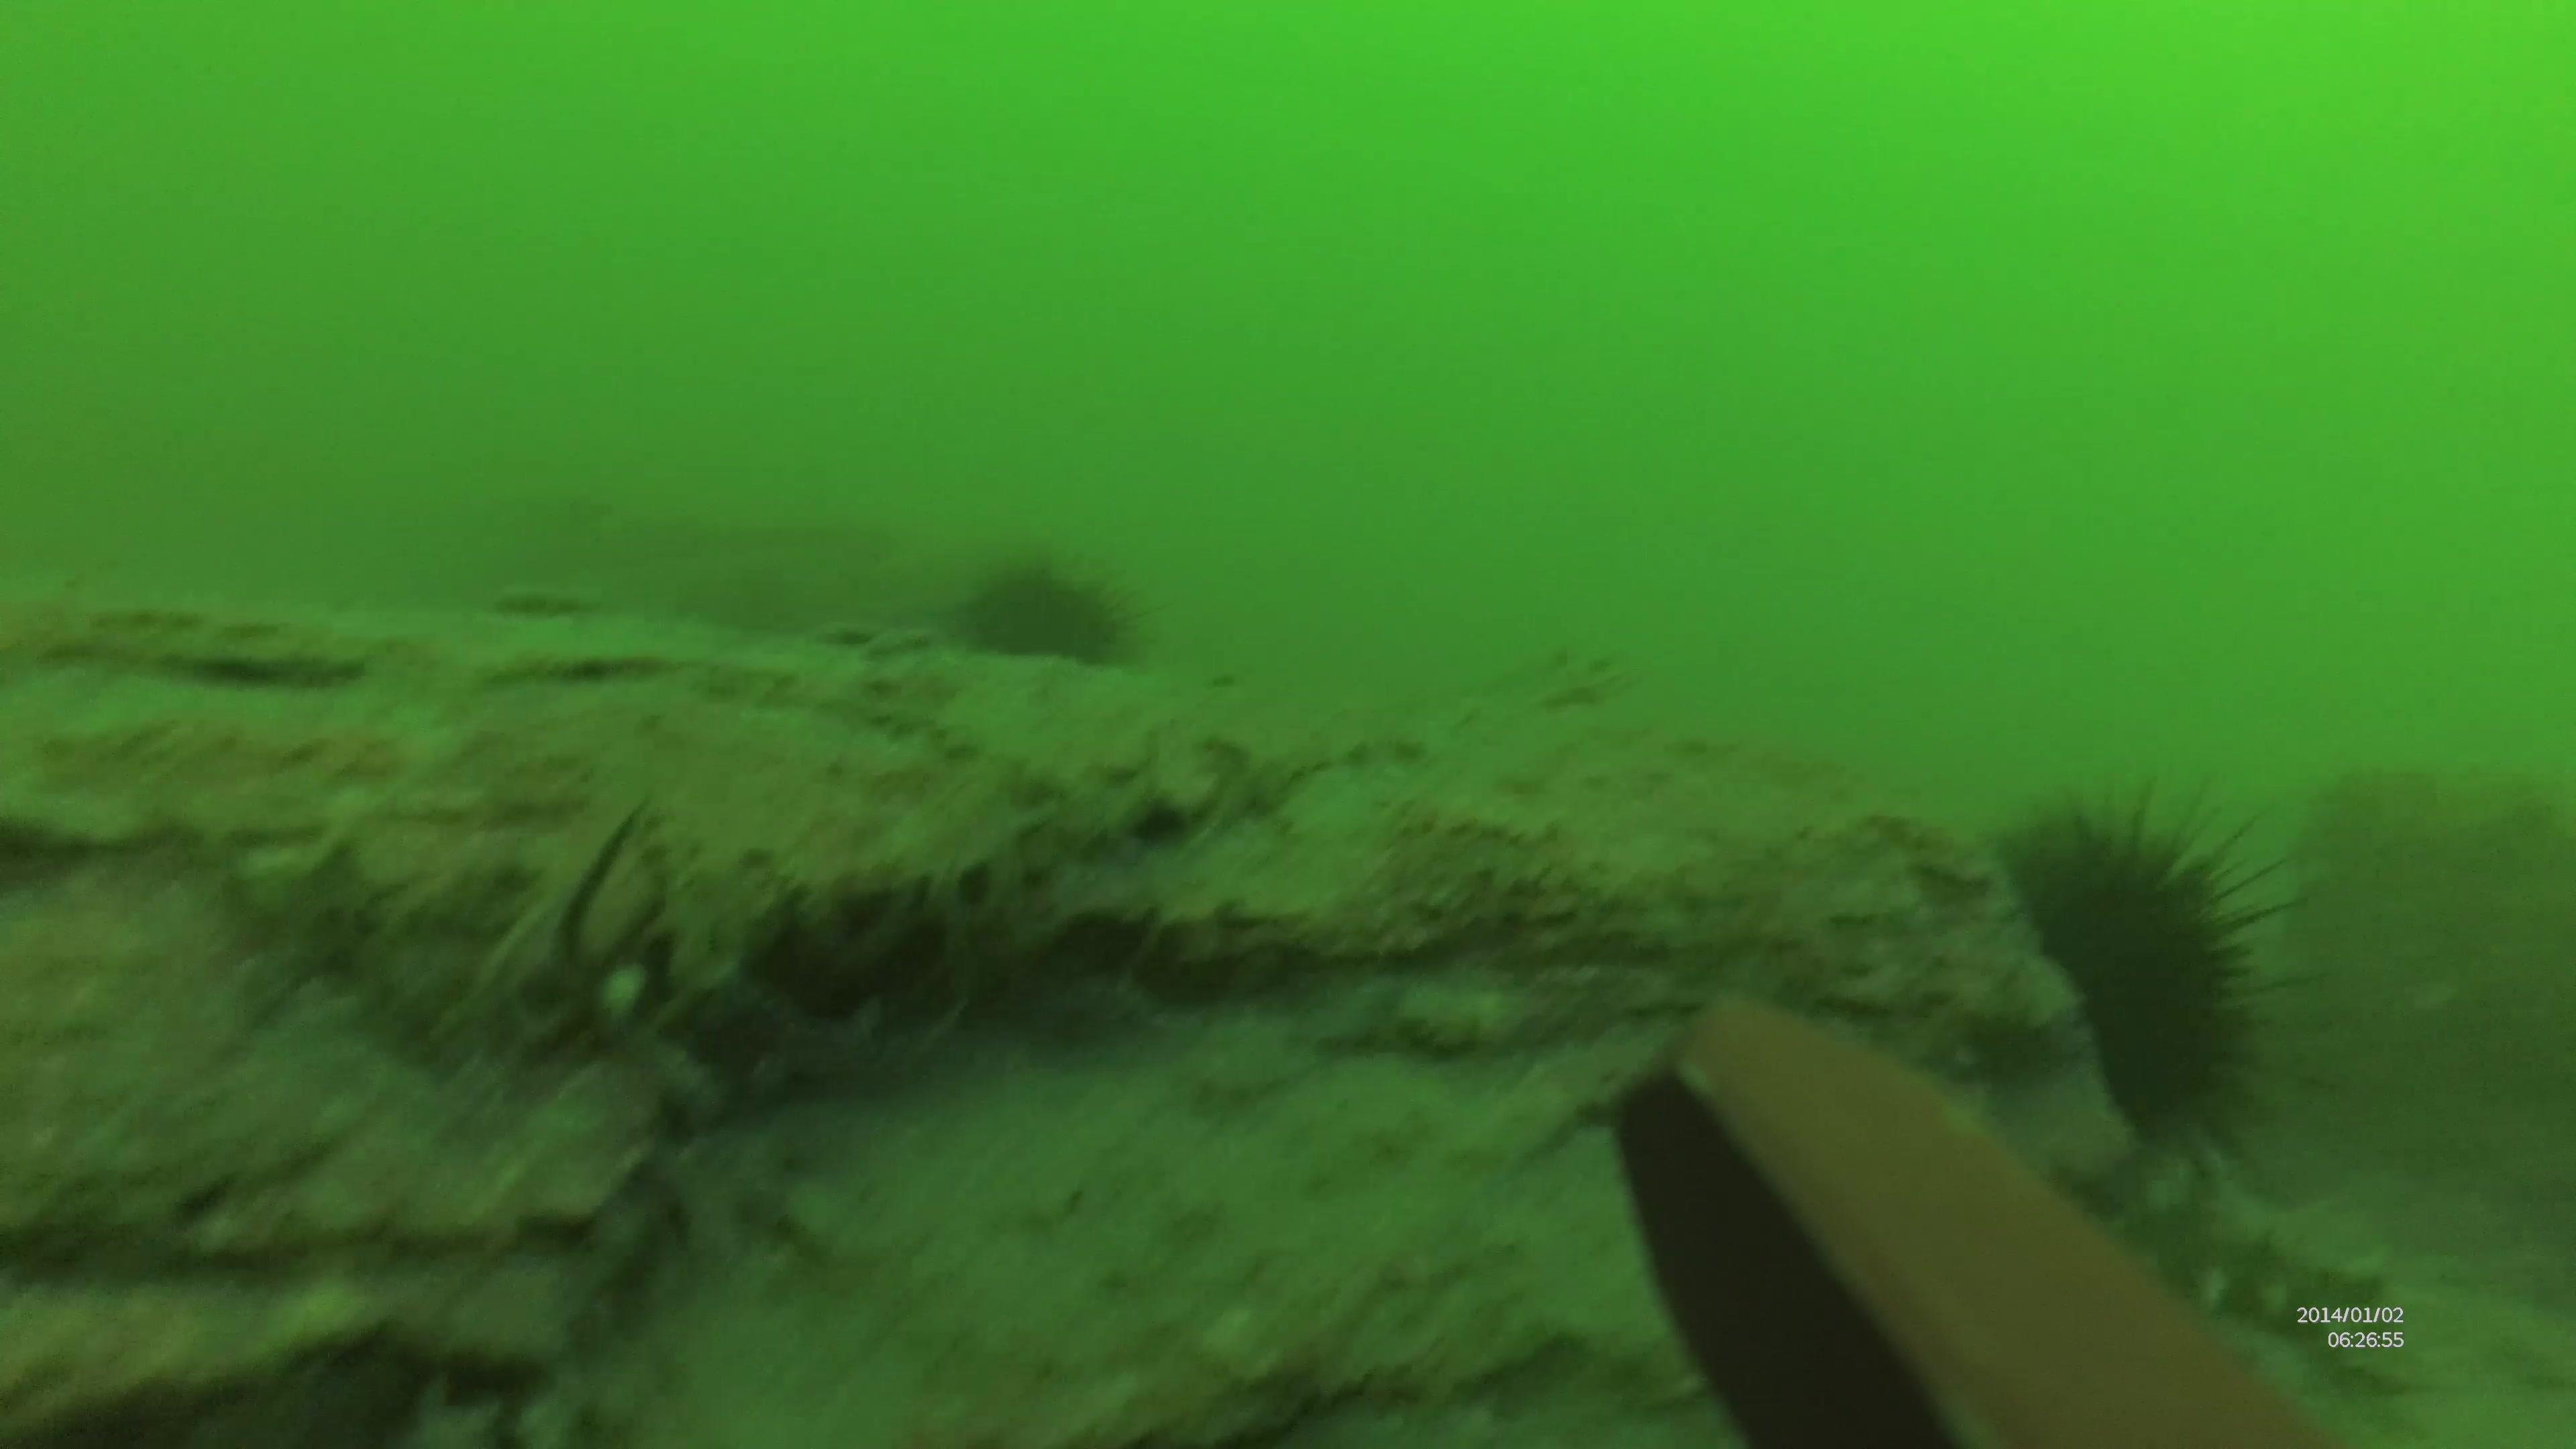echinus: (1969, 780, 2296, 1169), (955, 561, 1139, 683)
holothurian: (2127, 1150, 2390, 1338)
